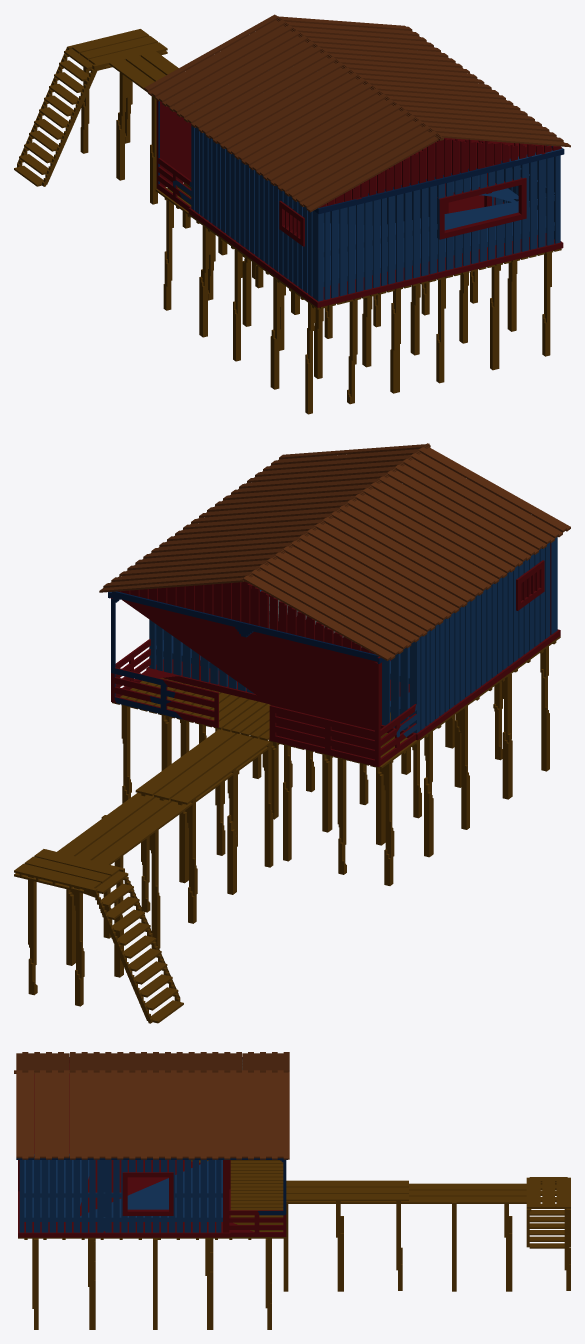
File: CASA DO BURI.fbx
3 renders of one model, top to bottom at view 1: azimuth 30°, elevation 25°; view 2: azimuth 150°, elevation 25°; view 3: azimuth 270°, elevation 25°, orthographic. The views are drawn at different scales.
Visible parts, largest first — view 1: CASA, TELHADO, PALAFITA - CASA, PALAFITA - ESCADA, PISO; view 2: TELHADO, CASA, PALAFITA - ESCADA, PALAFITA - CASA, PISO; view 3: TELHADO, CASA, PALAFITA - ESCADA, PISO, PALAFITA - CASA.
Boxes of the visible parts, x1,y1,x2,y2 form: CASA: (156, 100, 564, 307); TELHADO: (144, 14, 570, 212); PALAFITA - CASA: (163, 200, 551, 414); PALAFITA - ESCADA: (14, 29, 255, 278); PISO: (155, 182, 561, 309); TELHADO: (99, 443, 570, 660); CASA: (108, 537, 560, 767); PALAFITA - ESCADA: (14, 729, 273, 1023); PALAFITA - CASA: (121, 646, 549, 885); PISO: (112, 636, 560, 768); TELHADO: (14, 1052, 289, 1159); CASA: (16, 1057, 287, 1237); PALAFITA - ESCADA: (283, 1177, 570, 1291); PISO: (18, 1160, 284, 1239); PALAFITA - CASA: (32, 1238, 271, 1329).
Bounding box in the file's own units: 1951 × 1835 × 4385.
